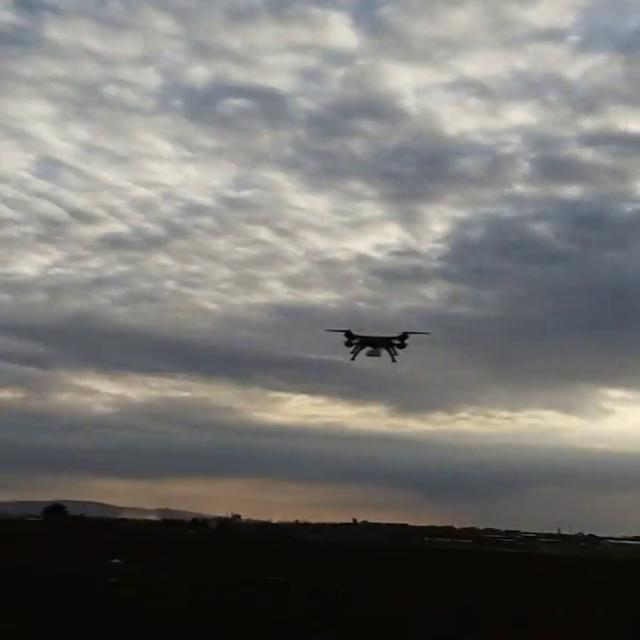drone: (316, 327, 437, 363)
